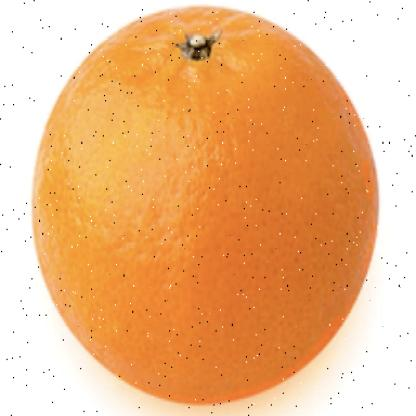fresh: (35, 9, 378, 407)
